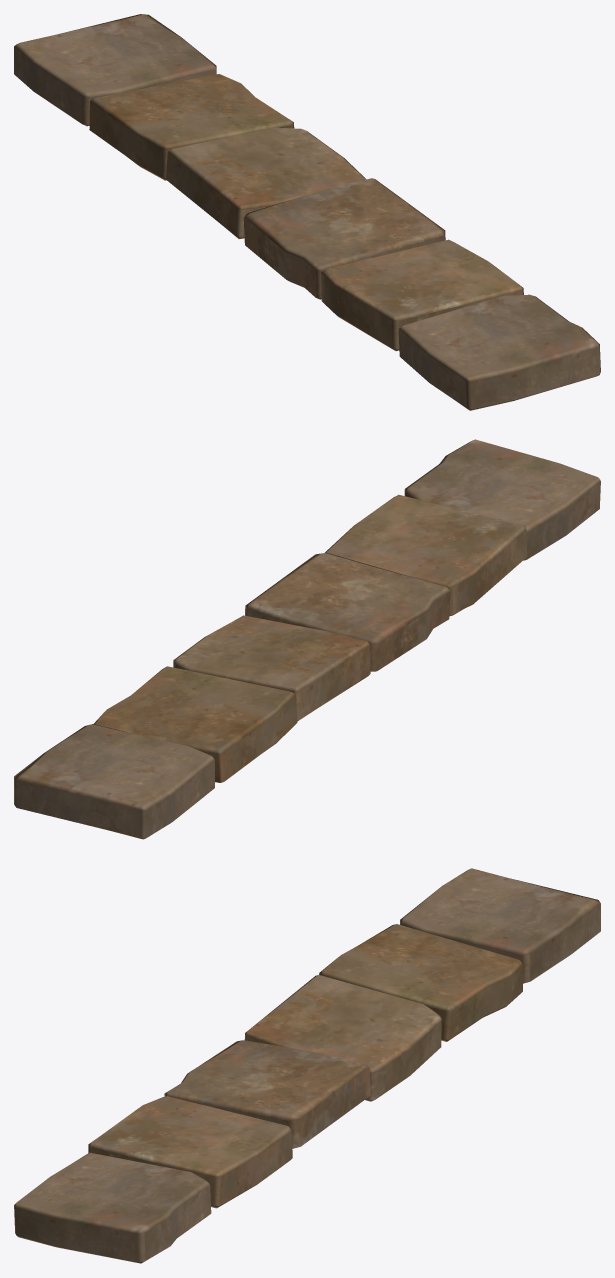
3 views of the same model, one above another, from view 1: azimuth 30°, elevation 25°; view 2: azimuth 150°, elevation 25°; view 3: azimuth 330°, elevation 25° (orthographic).
Visible parts, largest first — view 1: SM_AgilityPlatform_1x6_LOD0; view 2: SM_AgilityPlatform_1x6_LOD0; view 3: SM_AgilityPlatform_1x6_LOD0.
Part boxes in pixels (x1=…): SM_AgilityPlatform_1x6_LOD0: x1=14, y1=14, x2=600, y2=410; SM_AgilityPlatform_1x6_LOD0: x1=14, y1=439, x2=600, y2=839; SM_AgilityPlatform_1x6_LOD0: x1=14, y1=868, x2=600, y2=1263.
Size of the model in its own units: 1.07 by 0.3335 by 6.02.
1 material, 1 textured.
